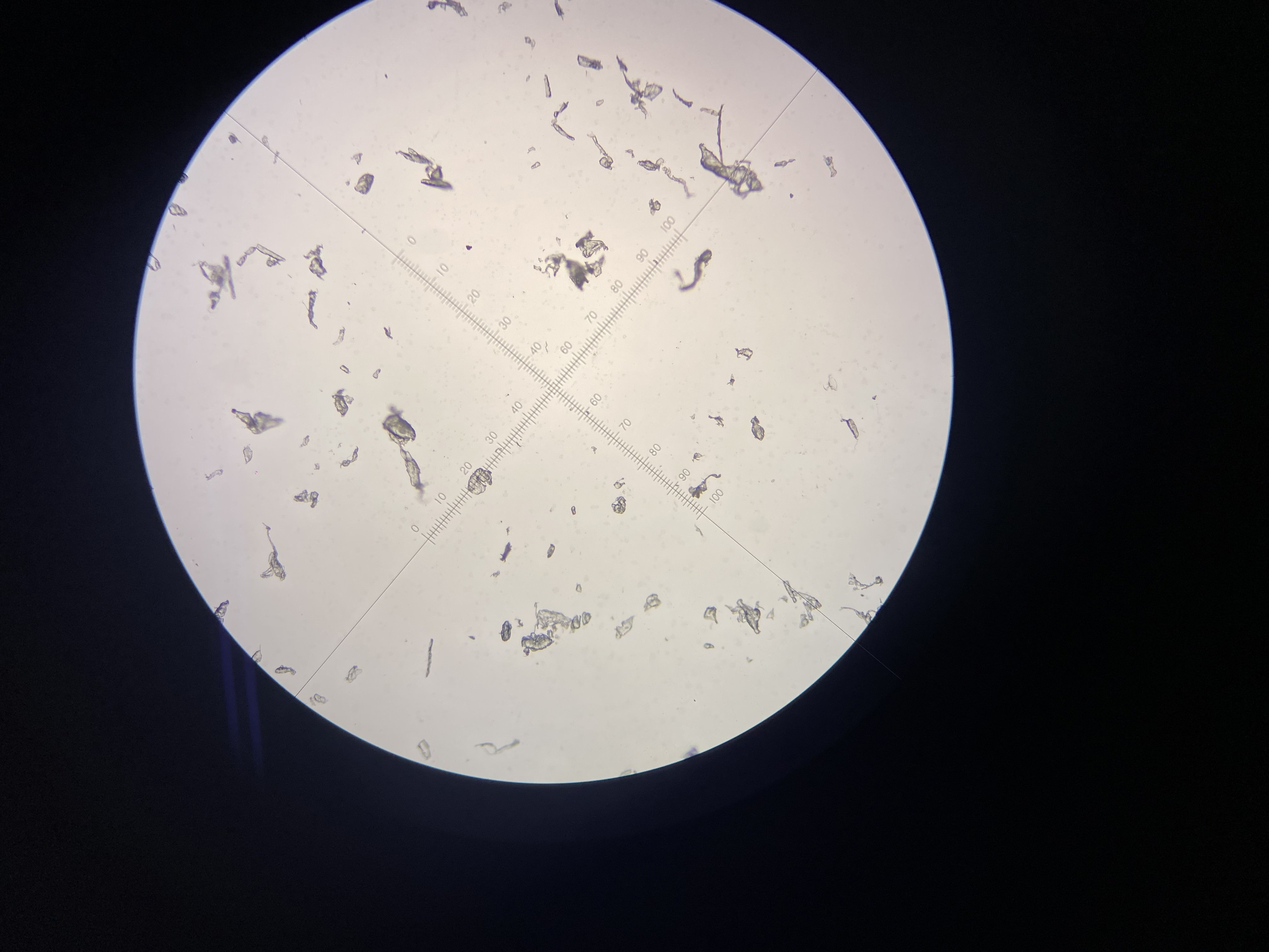microplastic: (699, 104, 764, 200), (522, 602, 591, 657), (381, 405, 424, 490), (616, 54, 663, 119), (533, 252, 605, 291), (395, 148, 454, 190), (192, 255, 236, 310), (637, 158, 697, 198), (778, 581, 822, 628), (674, 249, 712, 292), (260, 523, 286, 581), (724, 599, 764, 634), (231, 409, 285, 434), (236, 243, 286, 268), (840, 598, 883, 624), (587, 131, 615, 170), (551, 101, 575, 140), (576, 230, 608, 258), (303, 244, 327, 281), (688, 473, 721, 499), (476, 738, 521, 755), (426, 0, 468, 17), (331, 388, 354, 417), (848, 572, 883, 591), (468, 468, 492, 495), (302, 289, 318, 329), (262, 135, 280, 164), (614, 615, 635, 639), (338, 443, 358, 468), (293, 490, 319, 508), (354, 173, 375, 195), (577, 54, 603, 71), (673, 88, 693, 108), (840, 418, 859, 439), (214, 600, 229, 625), (750, 416, 764, 441), (823, 155, 837, 177), (644, 594, 661, 611), (345, 666, 362, 683), (499, 620, 512, 642), (418, 739, 431, 761), (146, 252, 161, 271), (703, 606, 718, 624), (612, 496, 627, 514), (426, 639, 433, 677), (332, 326, 345, 346), (168, 203, 188, 216), (823, 374, 838, 391), (500, 542, 512, 563), (310, 694, 329, 706), (274, 665, 296, 675), (735, 348, 753, 360), (554, 0, 564, 21), (251, 644, 262, 663), (204, 469, 223, 480), (649, 198, 661, 215), (243, 444, 253, 464), (708, 415, 724, 427), (544, 74, 552, 98), (498, 1, 512, 14), (227, 132, 242, 144), (774, 159, 796, 167), (524, 36, 536, 50), (613, 477, 626, 489), (351, 152, 363, 165), (500, 521, 510, 536), (383, 326, 393, 340), (620, 769, 637, 777), (694, 524, 704, 537), (692, 452, 705, 462), (299, 435, 309, 448), (178, 173, 189, 184), (547, 543, 555, 558), (726, 374, 735, 387), (766, 608, 775, 620), (340, 365, 351, 374), (373, 368, 381, 379), (515, 619, 524, 628), (625, 149, 634, 158), (490, 571, 500, 578), (703, 643, 714, 649), (531, 162, 540, 169), (527, 147, 536, 154), (596, 99, 604, 106), (576, 584, 582, 592), (591, 446, 597, 454), (571, 506, 576, 515), (556, 237, 561, 246), (314, 463, 320, 470), (466, 245, 472, 251), (690, 413, 695, 419), (468, 636, 475, 640), (526, 75, 530, 82), (872, 395, 877, 400), (569, 406, 572, 411), (585, 411, 589, 414)
